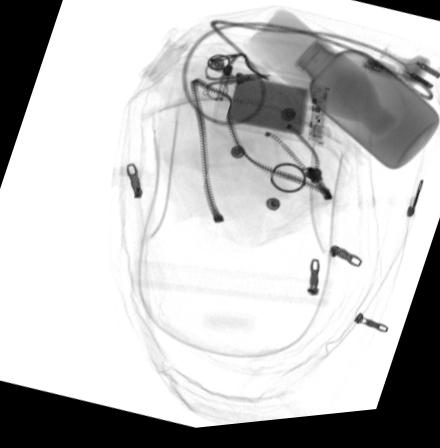Powerbank: (212, 68, 331, 152)
Scissors: (200, 65, 271, 109)
